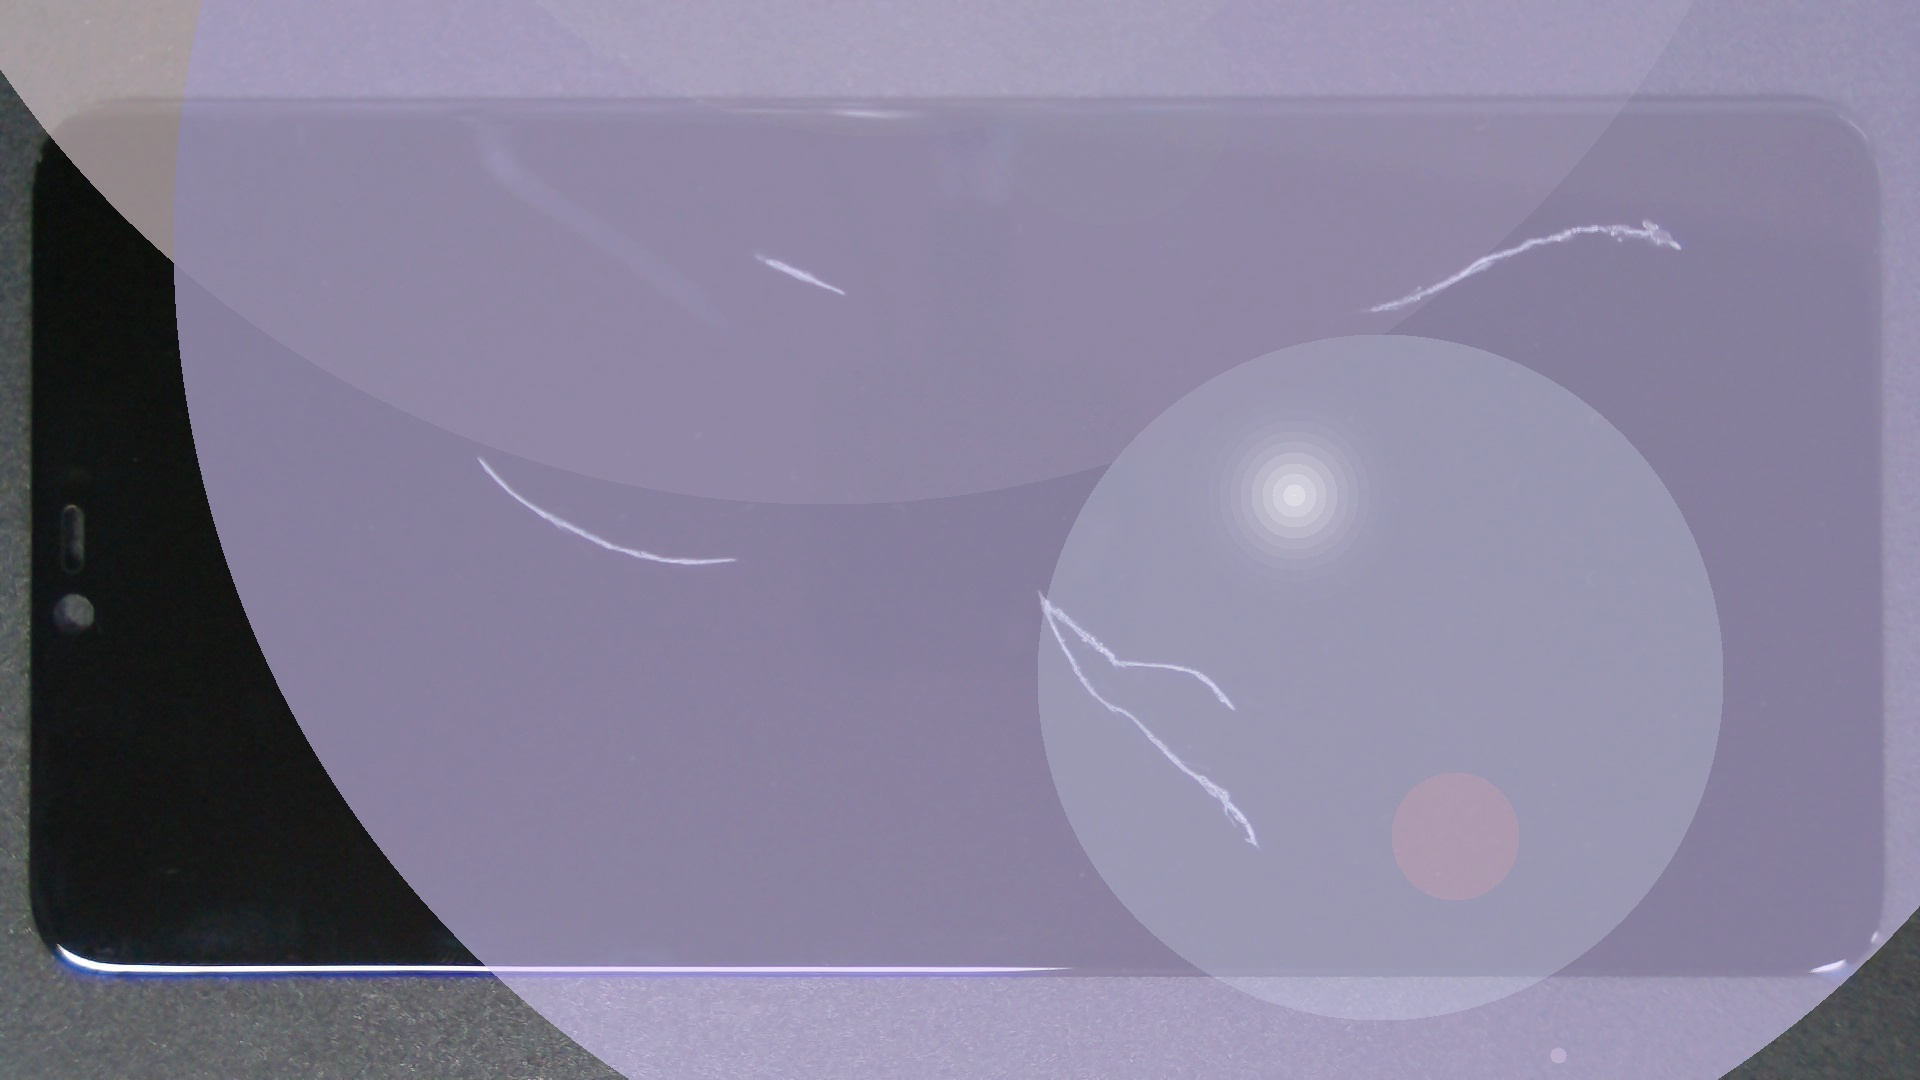oil: (518, 294, 1553, 884), (823, 108, 1920, 328), (239, 228, 716, 684), (377, 125, 1133, 378)
